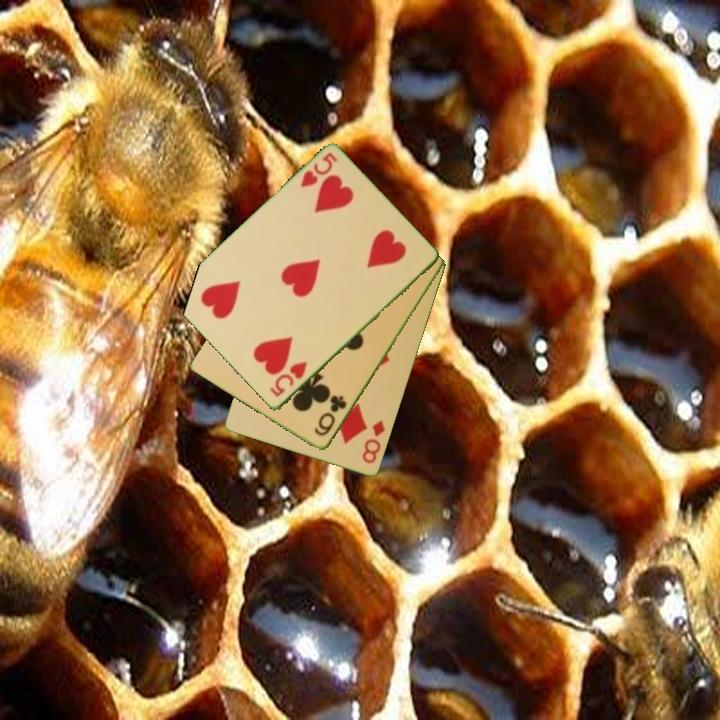5h: (266, 358, 310, 400), (297, 150, 340, 191)
6c: (311, 392, 350, 439)
8d: (359, 417, 388, 467)
